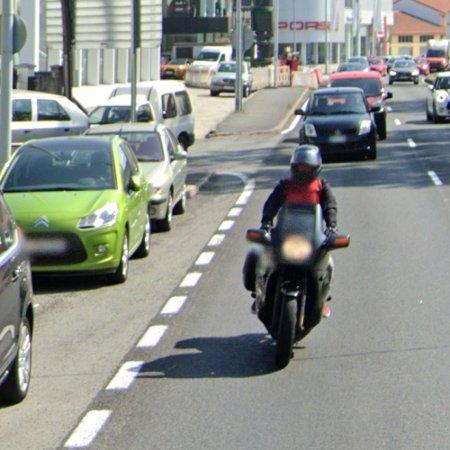motorcycles: (247, 202, 351, 369)
